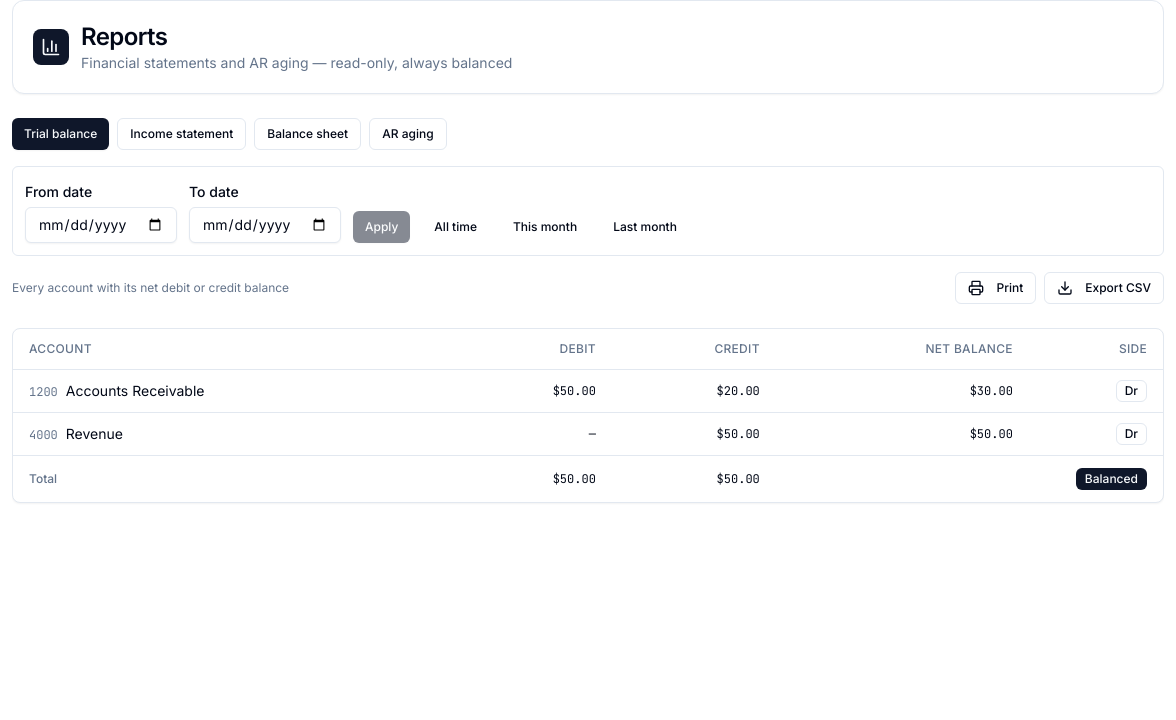
Scenario: ReportsView — trial balance (ACC-1) › applies the selected period filter and re-renders with the new data
Click the button "This month": (545, 227) x1=501 y1=211 x2=589 y2=243
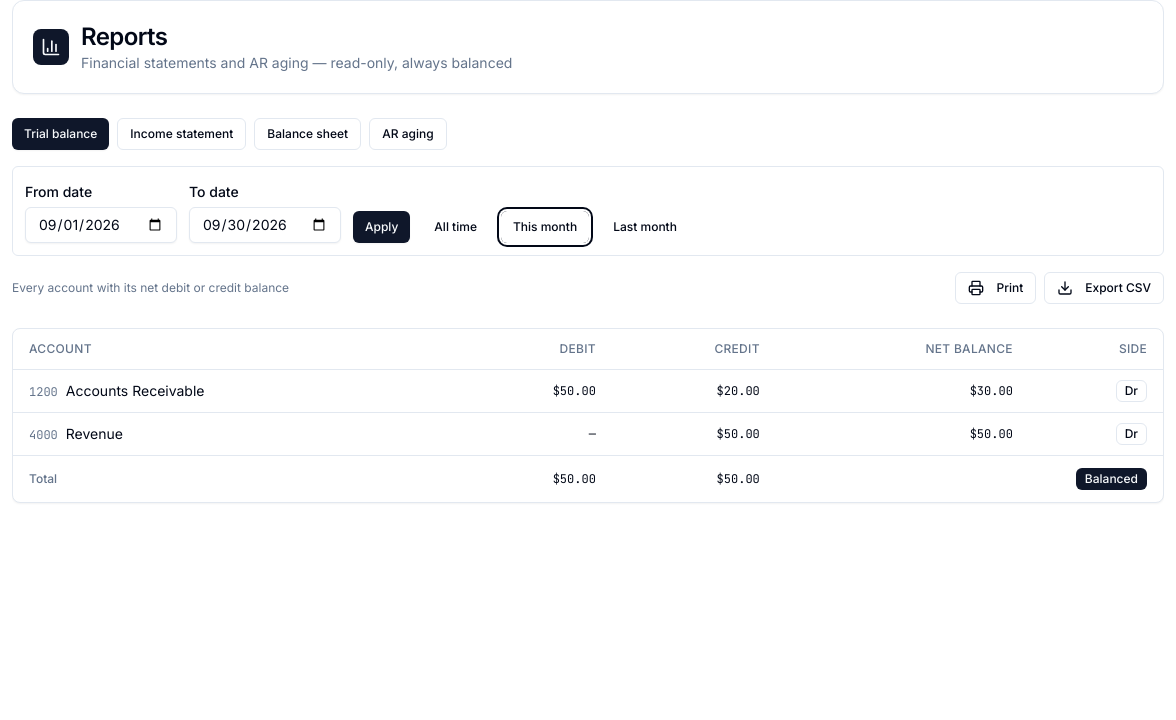
Click the button "All time": (456, 227) x1=422 y1=211 x2=489 y2=243
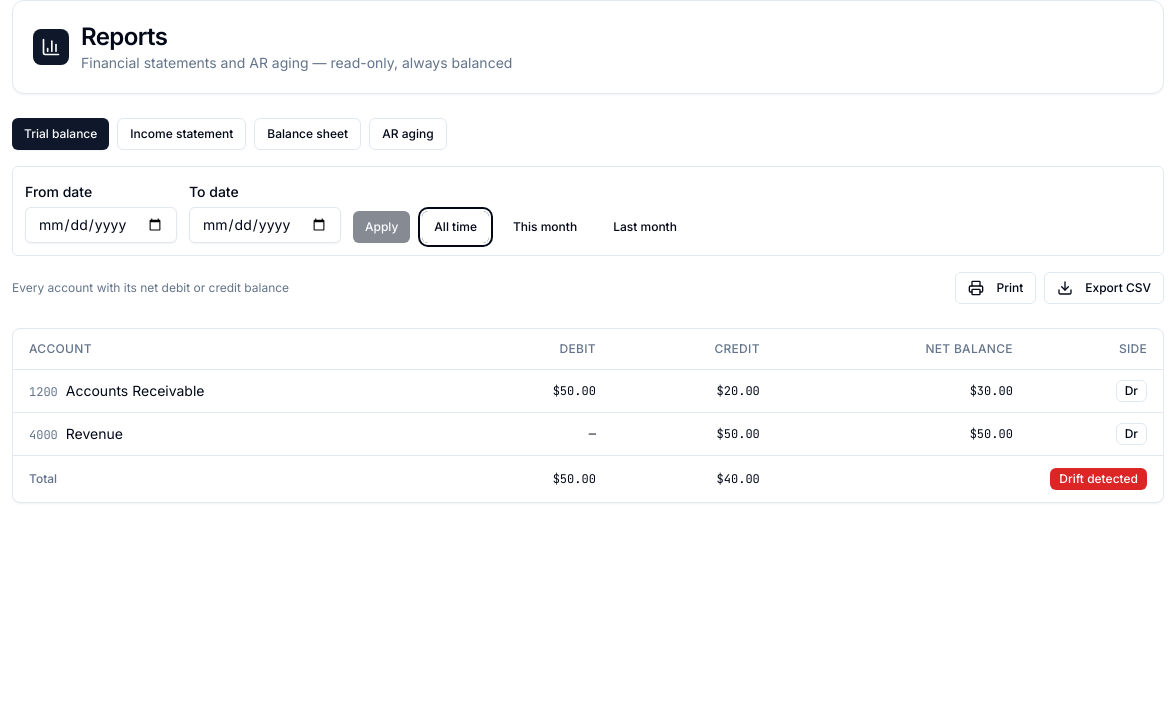
Result: the text "Drift detected" is shown at x1=1050 y1=468 x2=1147 y2=490
